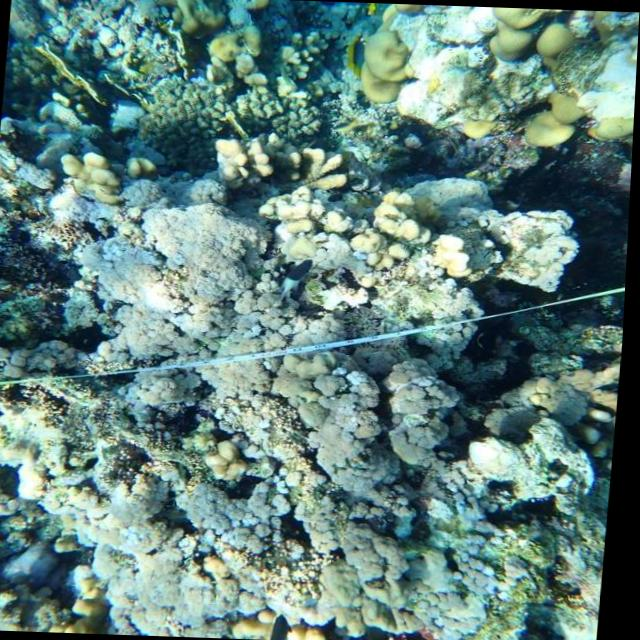Bleached Coral: (8, 160, 633, 640)
